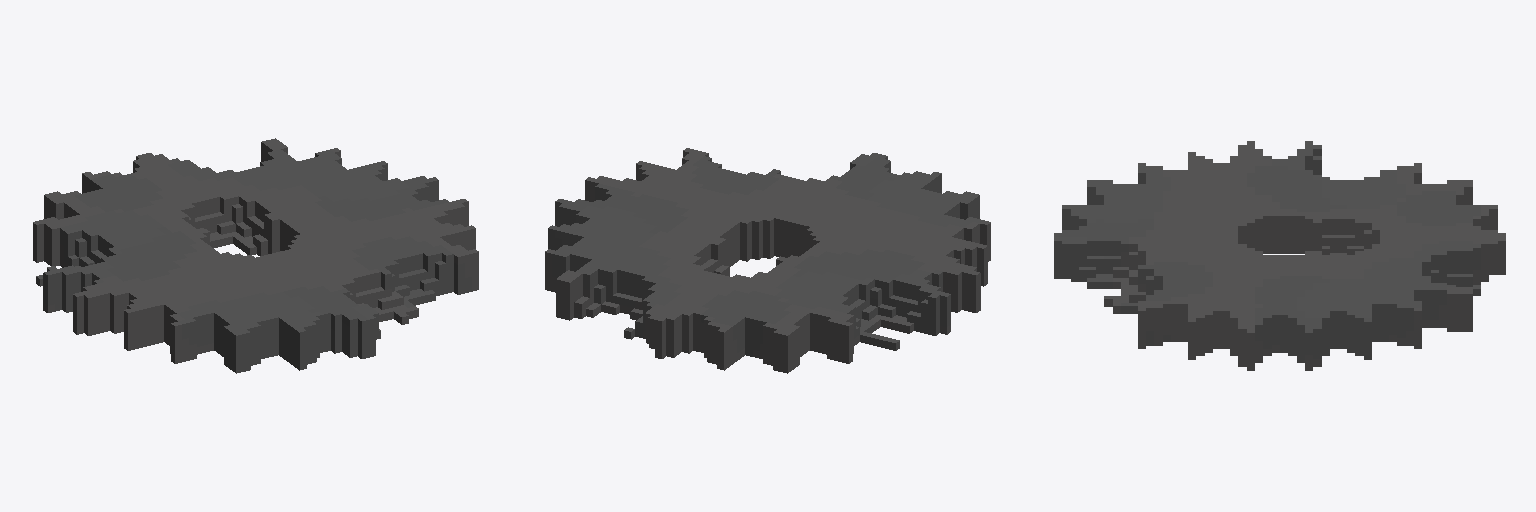
The picture shows the model from 3 angles: view 1: azimuth 30°, elevation 25°; view 2: azimuth 150°, elevation 25°; view 3: azimuth 270°, elevation 25°; orthographic projection.
Size of the model in its own units: 54 by 5 by 54.
Materials: 1 (1 with a texture image).